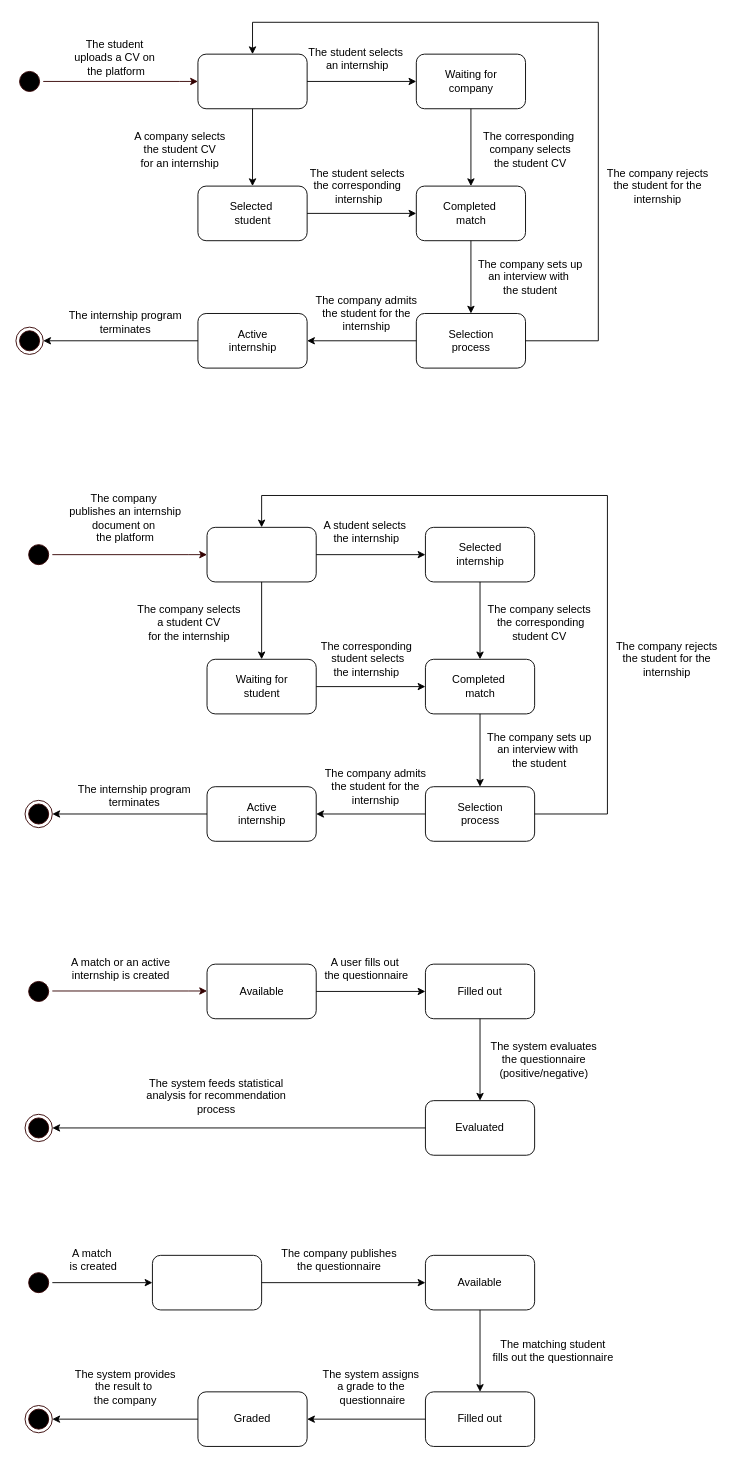
Image size: 742x1462. Some labels were removed from this diagram. The shapes that lost their labels are listed below. From the top down, each one's box as (x1, y1, x2, y2) in pixels, then its label:
(197, 53, 307, 109): Available student
(206, 526, 316, 582): Available internship
(152, 1254, 262, 1310): Interview set up
